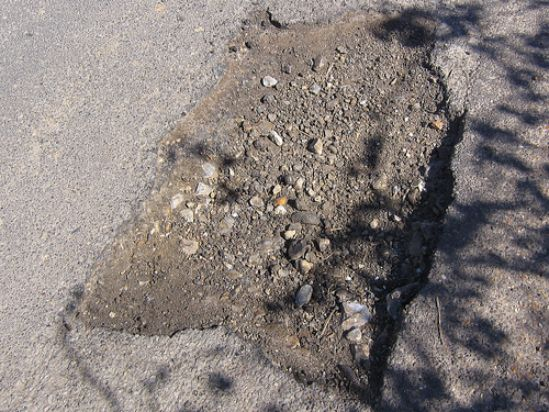pothole: (59, 2, 468, 409)
